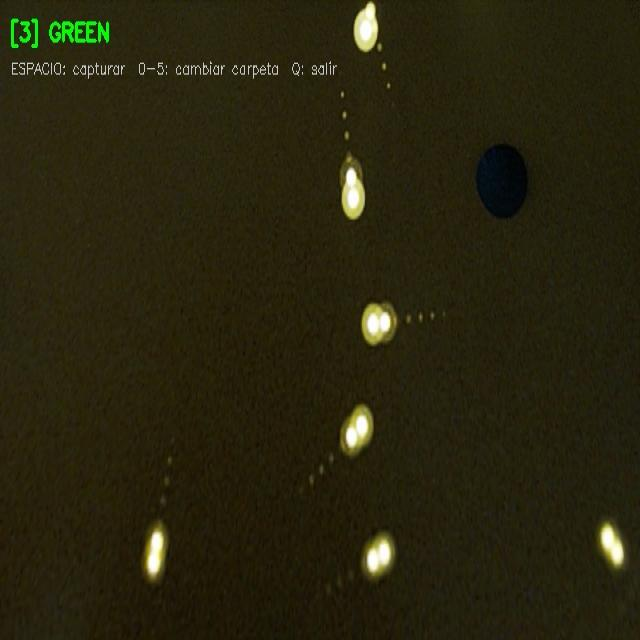green: (478, 142, 524, 220)
